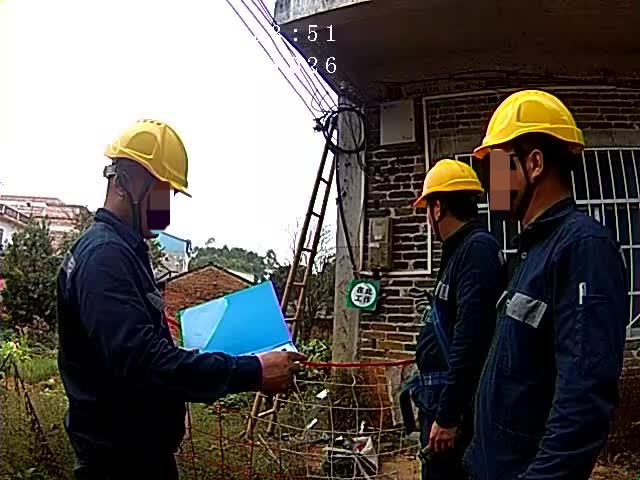halt: (477, 91, 592, 214), (100, 122, 196, 232), (418, 162, 488, 235)
inear: (515, 139, 555, 188), (428, 197, 449, 230)
outear: (102, 166, 150, 227)
